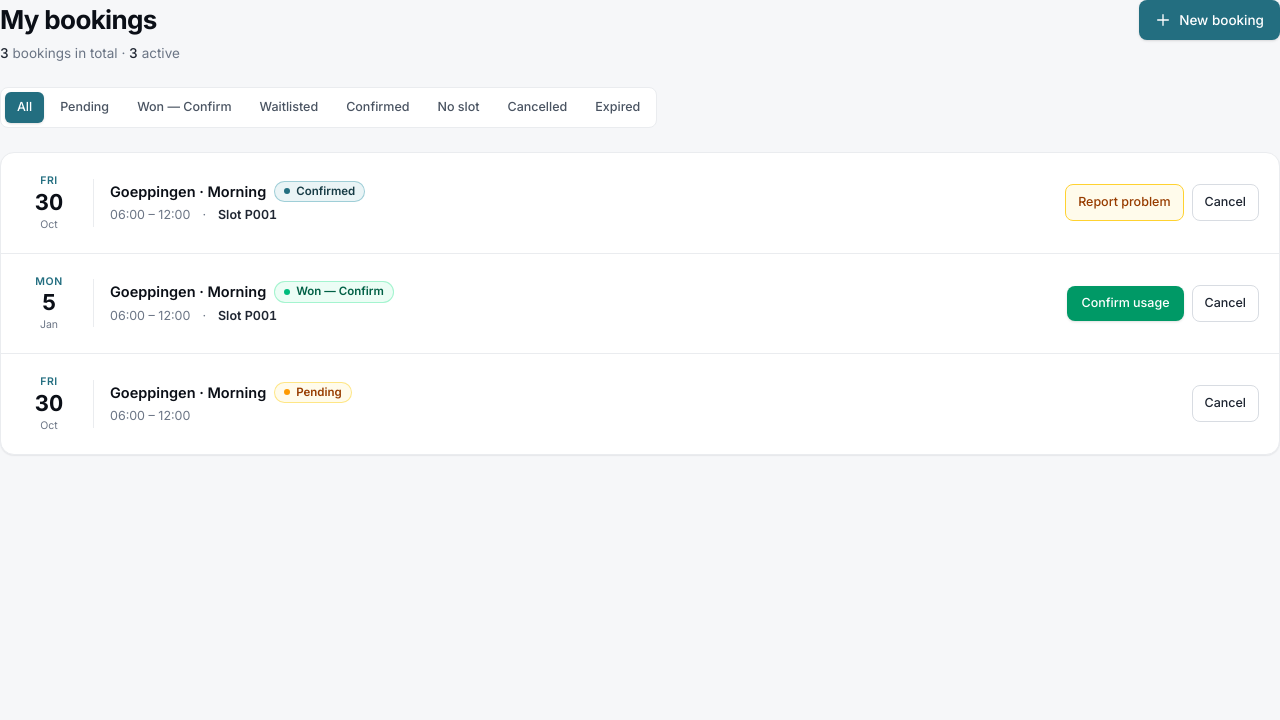
Scenario: MyBookingsPage › offers "Report problem" only on today's assigned booking
Click the button "Report problem". click: (1124, 203)
box: [1065,184,1184,221]
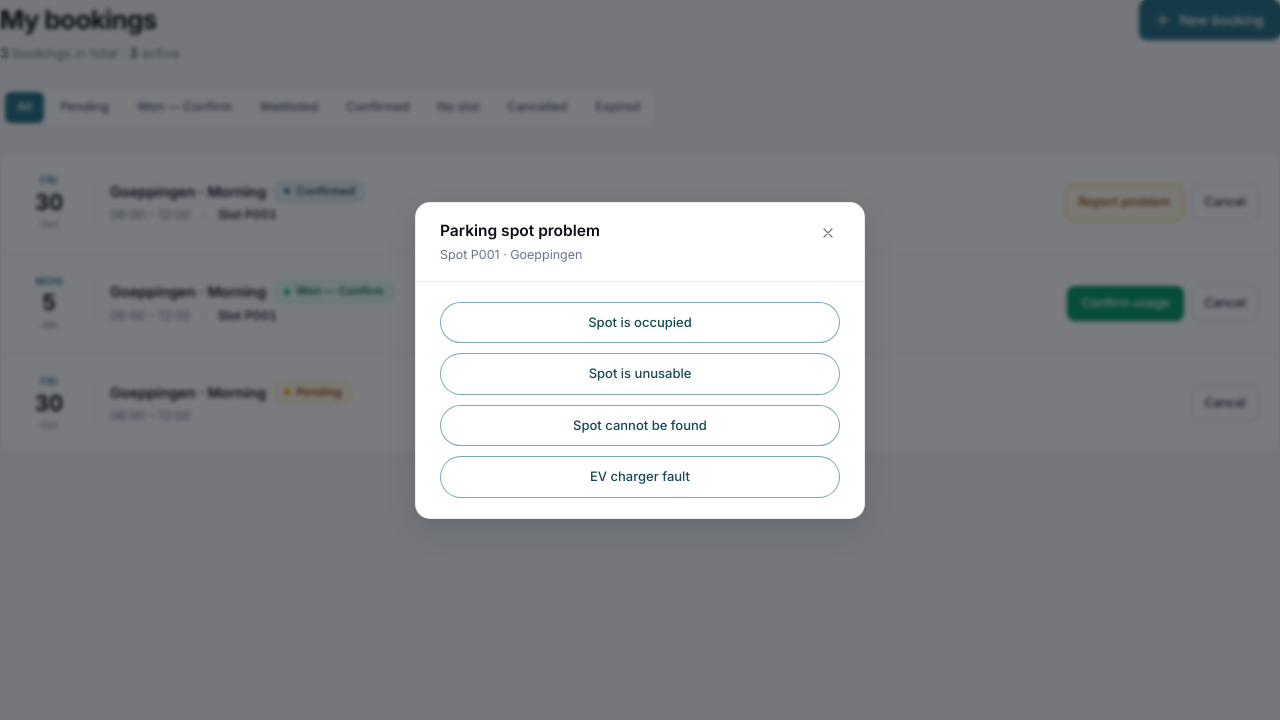
Now the dialog shows "Parking spot problem", box [440,220,600,240]
Now the button "Spot is occupied" is shown, box [440,302,840,343]
